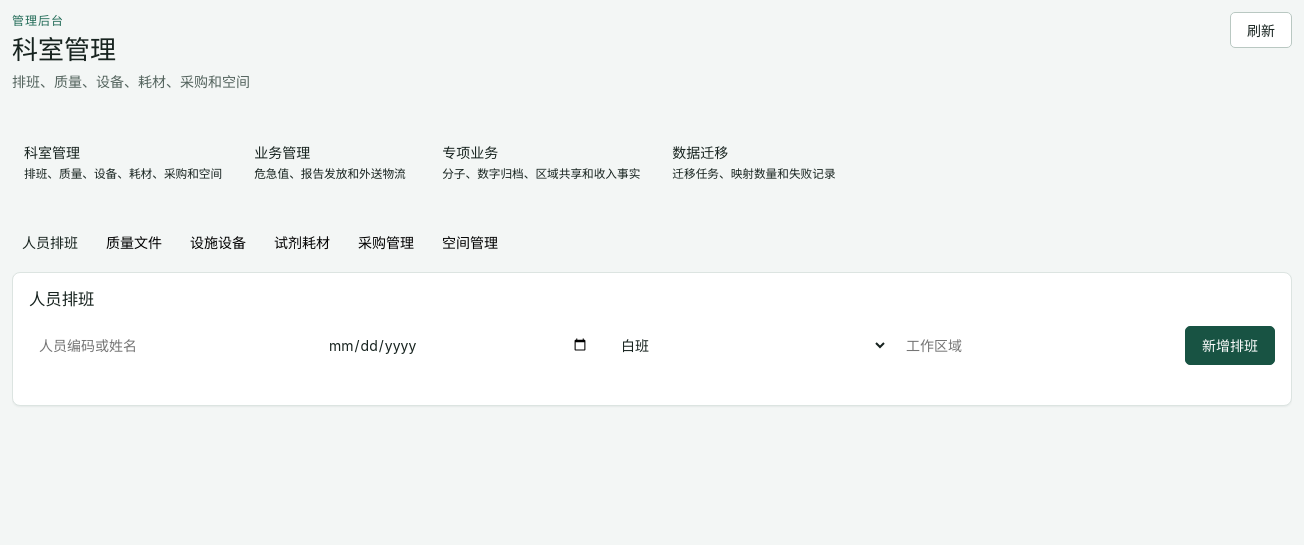
Test: V2BusinessOperationsHub › separates department, clinical, specialty and migration capabilities
The width and height of the screenshot is (1304, 545).
What coordinates should you click on to do the following:
click the button "数据迁移 迁移任务、映射数量和失败记录"
I would click on:
 (754, 162)
Its box is [660, 132, 848, 193].
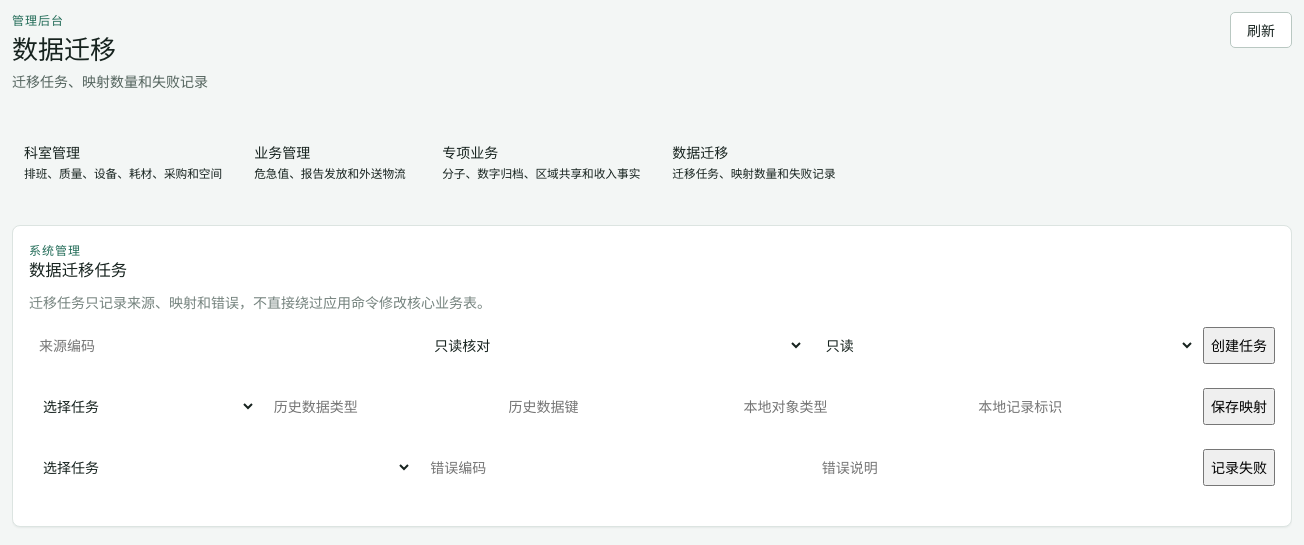
Expected: the text "迁移任务、映射数量和失败记录" is shown, [12, 70, 208, 92]
Now the text "不直接绕过应用命令修改核心业务表" is shown, box [29, 294, 491, 312]
